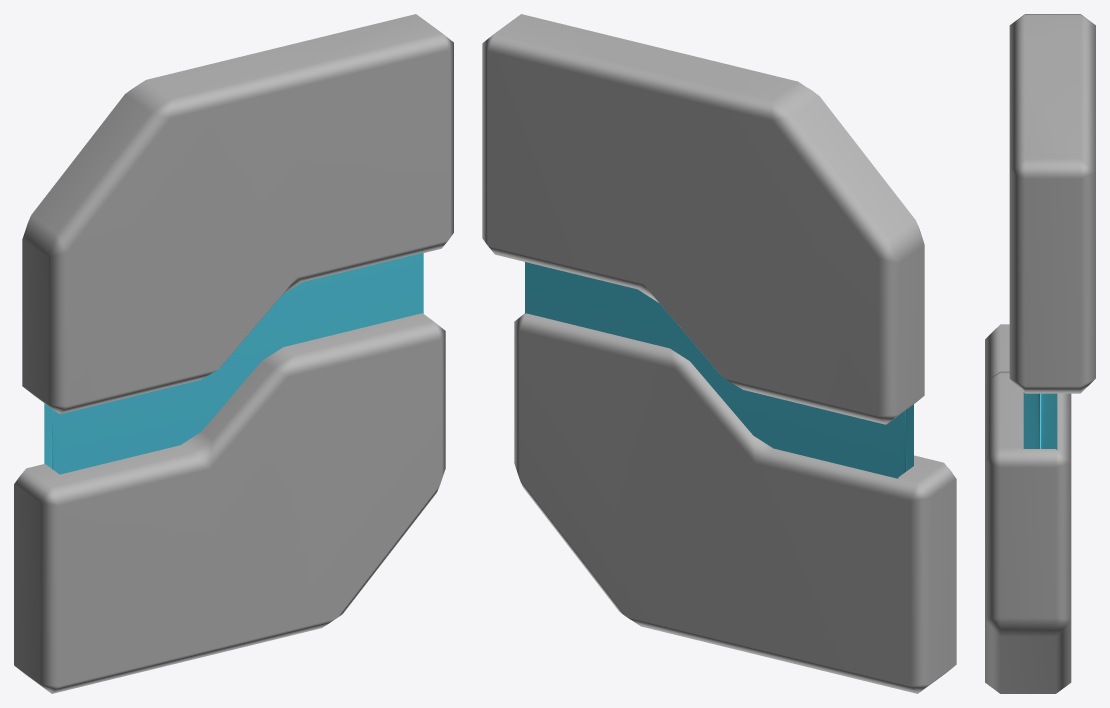
File: panel_006.fbx
3 renders of one model, left to right at view 1: azimuth 30°, elevation 25°; view 2: azimuth 150°, elevation 25°; view 3: azimuth 270°, elevation 25°, orthographic. The views are drawn at different scales.
Parts seen in each view (by area): view 1: panel_006; view 2: panel_006; view 3: panel_006.
Boxes of the visible parts, x1,y1,x2,y2 form: panel_006: [14, 14, 453, 693]; panel_006: [482, 14, 956, 693]; panel_006: [985, 14, 1095, 693].
Size of the model in its own units: 552 by 115 by 688.
